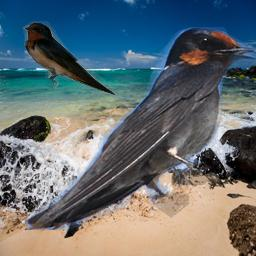Swallow: (25, 27, 256, 230), (22, 21, 117, 97)
